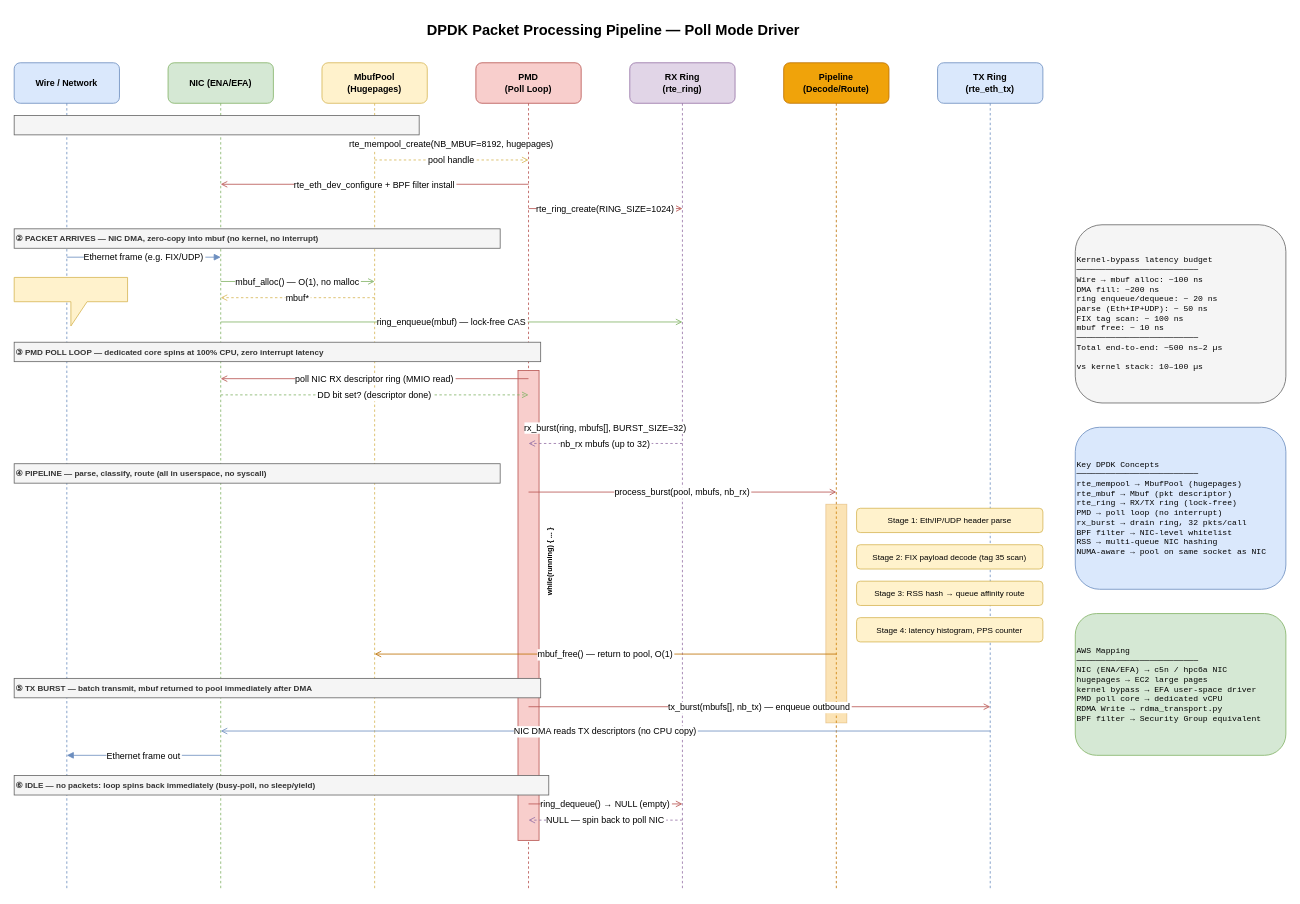
Some shapes in this 1300 by 904 pixel diagram are drawn without their labels. Here are the shapes that lost their labels. From the top down, the box of each, then its label:
(13, 115, 419, 135): ① STARTUP — hugepage allocation, no malloc after this point
(13, 277, 128, 326): DMA writes directly into mbuf.buf[HEADROOM:] — CPU not involved
